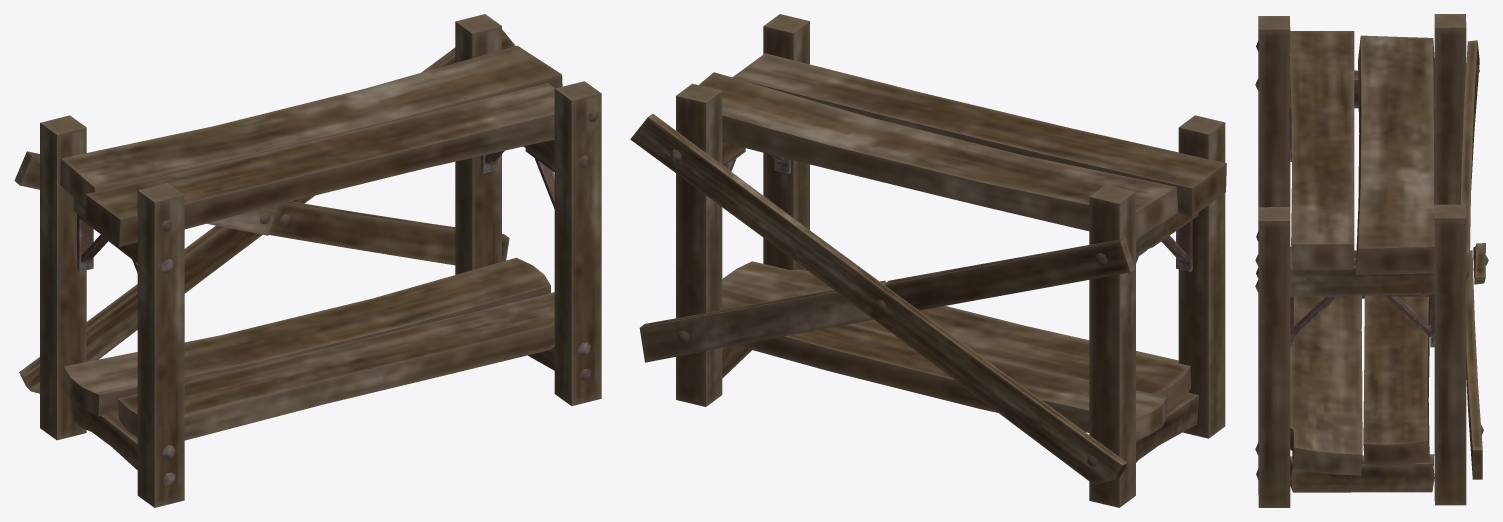
File: t0_shelf_small_roughwood.glb
3 views of the same model, side by side, from view 1: azimuth 30°, elevation 25°; view 2: azimuth 150°, elevation 25°; view 3: azimuth 270°, elevation 25° (orthographic). The views are drawn at different scales.
Visible parts, largest first — view 1: global_props_roughwood_shelf_02_a; view 2: global_props_roughwood_shelf_02_a; view 3: global_props_roughwood_shelf_02_a.
Boxes of the visible parts, left/top/right/bottom form: global_props_roughwood_shelf_02_a: left=14, top=14, right=601, bottom=507; global_props_roughwood_shelf_02_a: left=630, top=14, right=1226, bottom=507; global_props_roughwood_shelf_02_a: left=1255, top=14, right=1488, bottom=507.
Size of the model in its own units: 2.06 by 1.2 by 0.8885.
2 materials, 2 textured.
